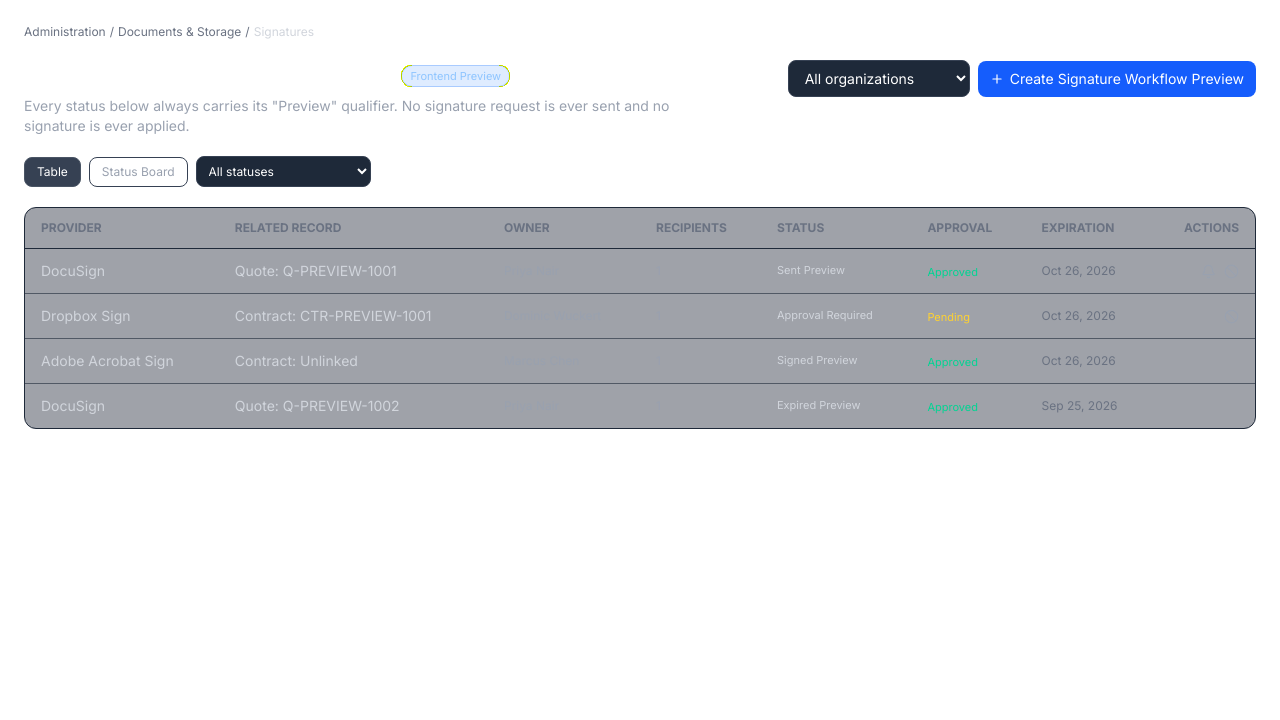
Test: SignatureWorkflowList › opens the creation dialog and shows failing validation for a nonexistent source record
Expected: the text "Dropbox Sign" is shown, x1=25 y1=294 x2=219 y2=338
Click the button "Create Signature Workflow Preview" at x=1117, y=78, box x1=978 y1=60 x2=1256 y2=96
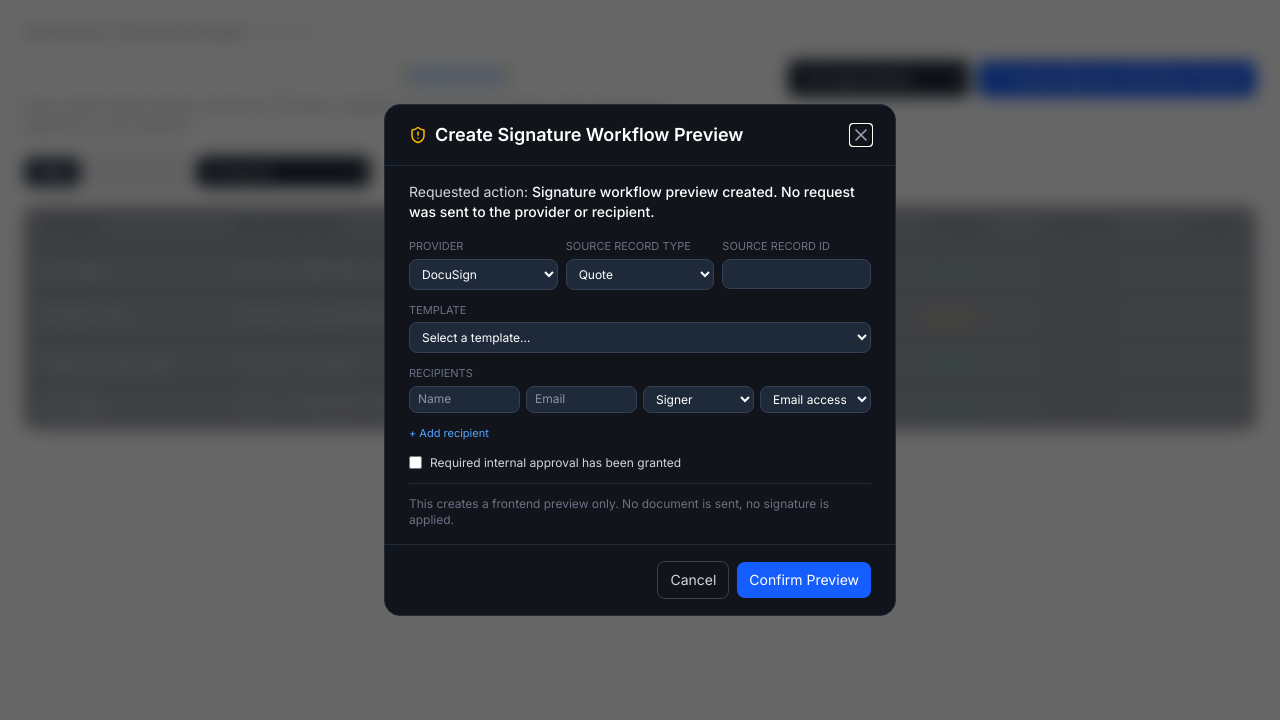
Type "nonexistent-record" into the field labelled "Source Record ID" at x=797, y=274, box x1=722 y1=259 x2=871 y2=289
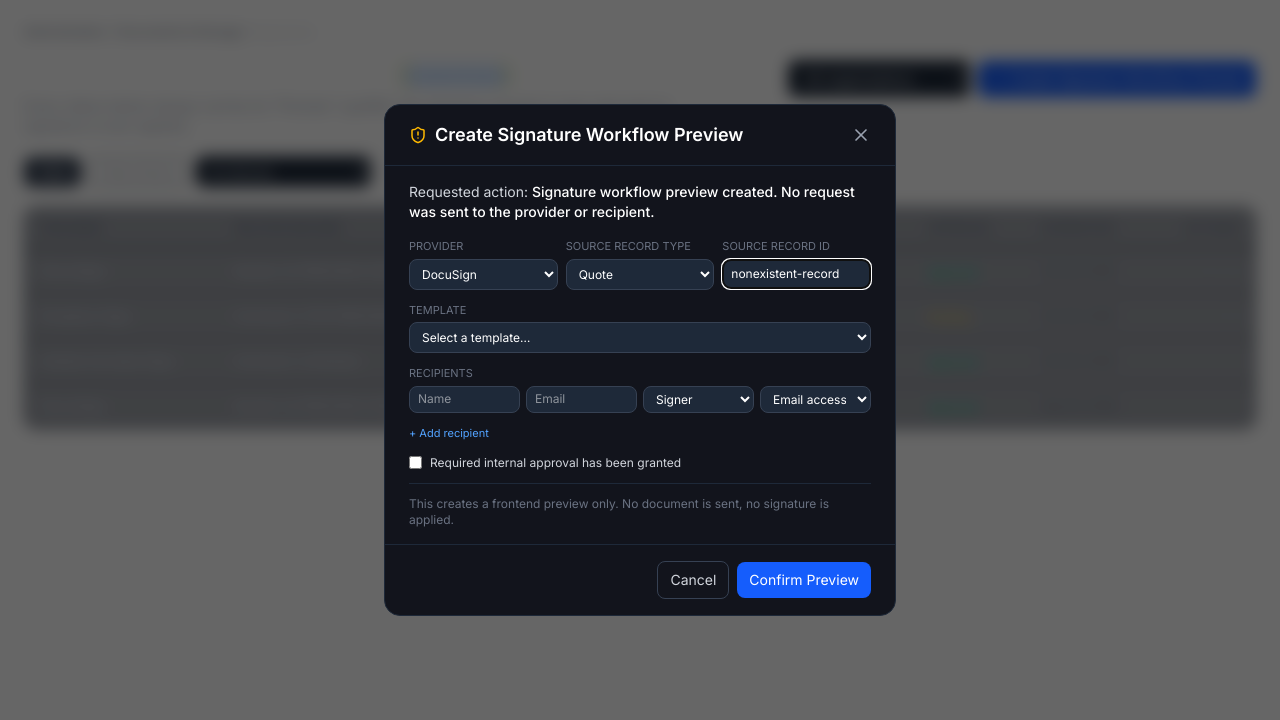
Click the button "Confirm Preview" at x=804, y=580, box x1=737 y1=562 x2=871 y2=598
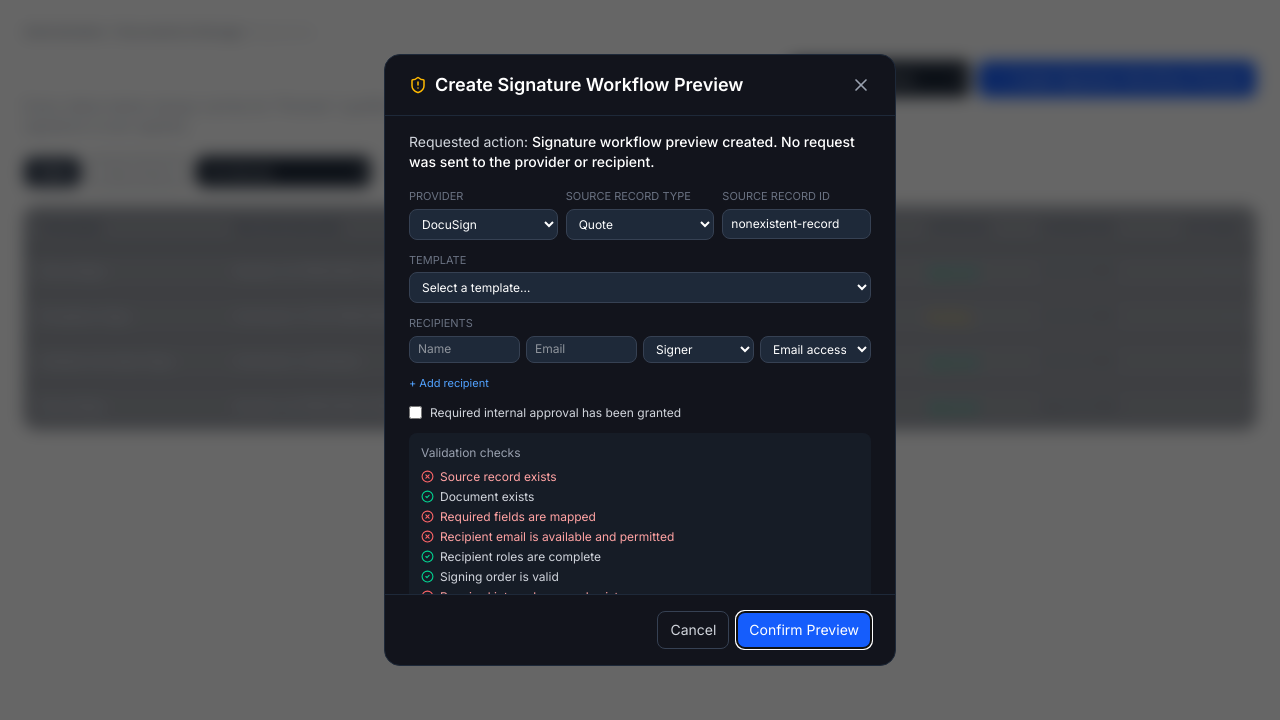
Now the text "Validation checks" is shown, box x1=421 y1=444 x2=520 y2=460
Now the text "Source record exists" is shown, box x1=440 y1=468 x2=557 y2=484
